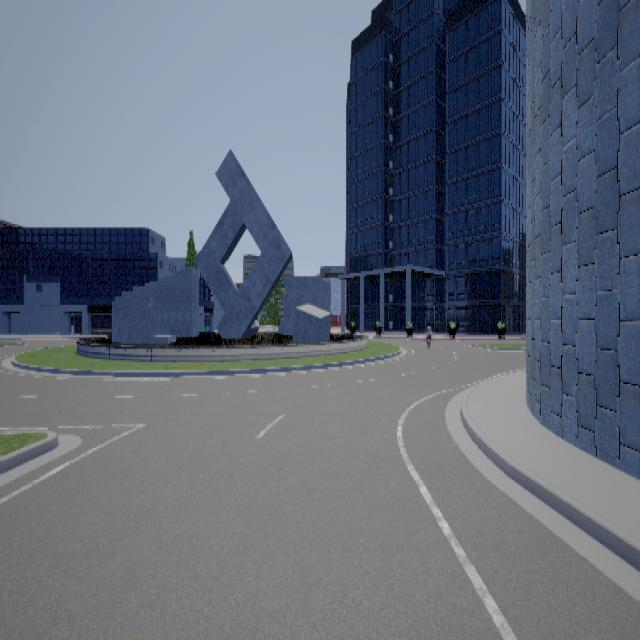bike: (422, 320, 432, 347)
